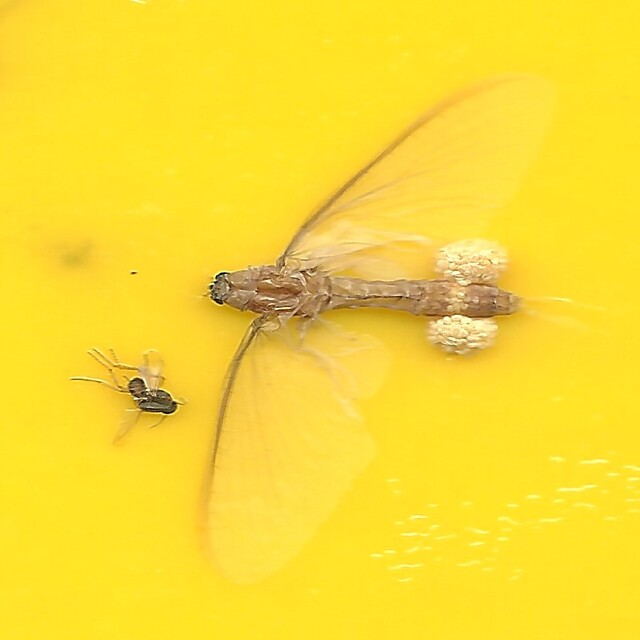Brachycera: (89, 354, 180, 441)
Ephemeroptera: (197, 64, 551, 576)
